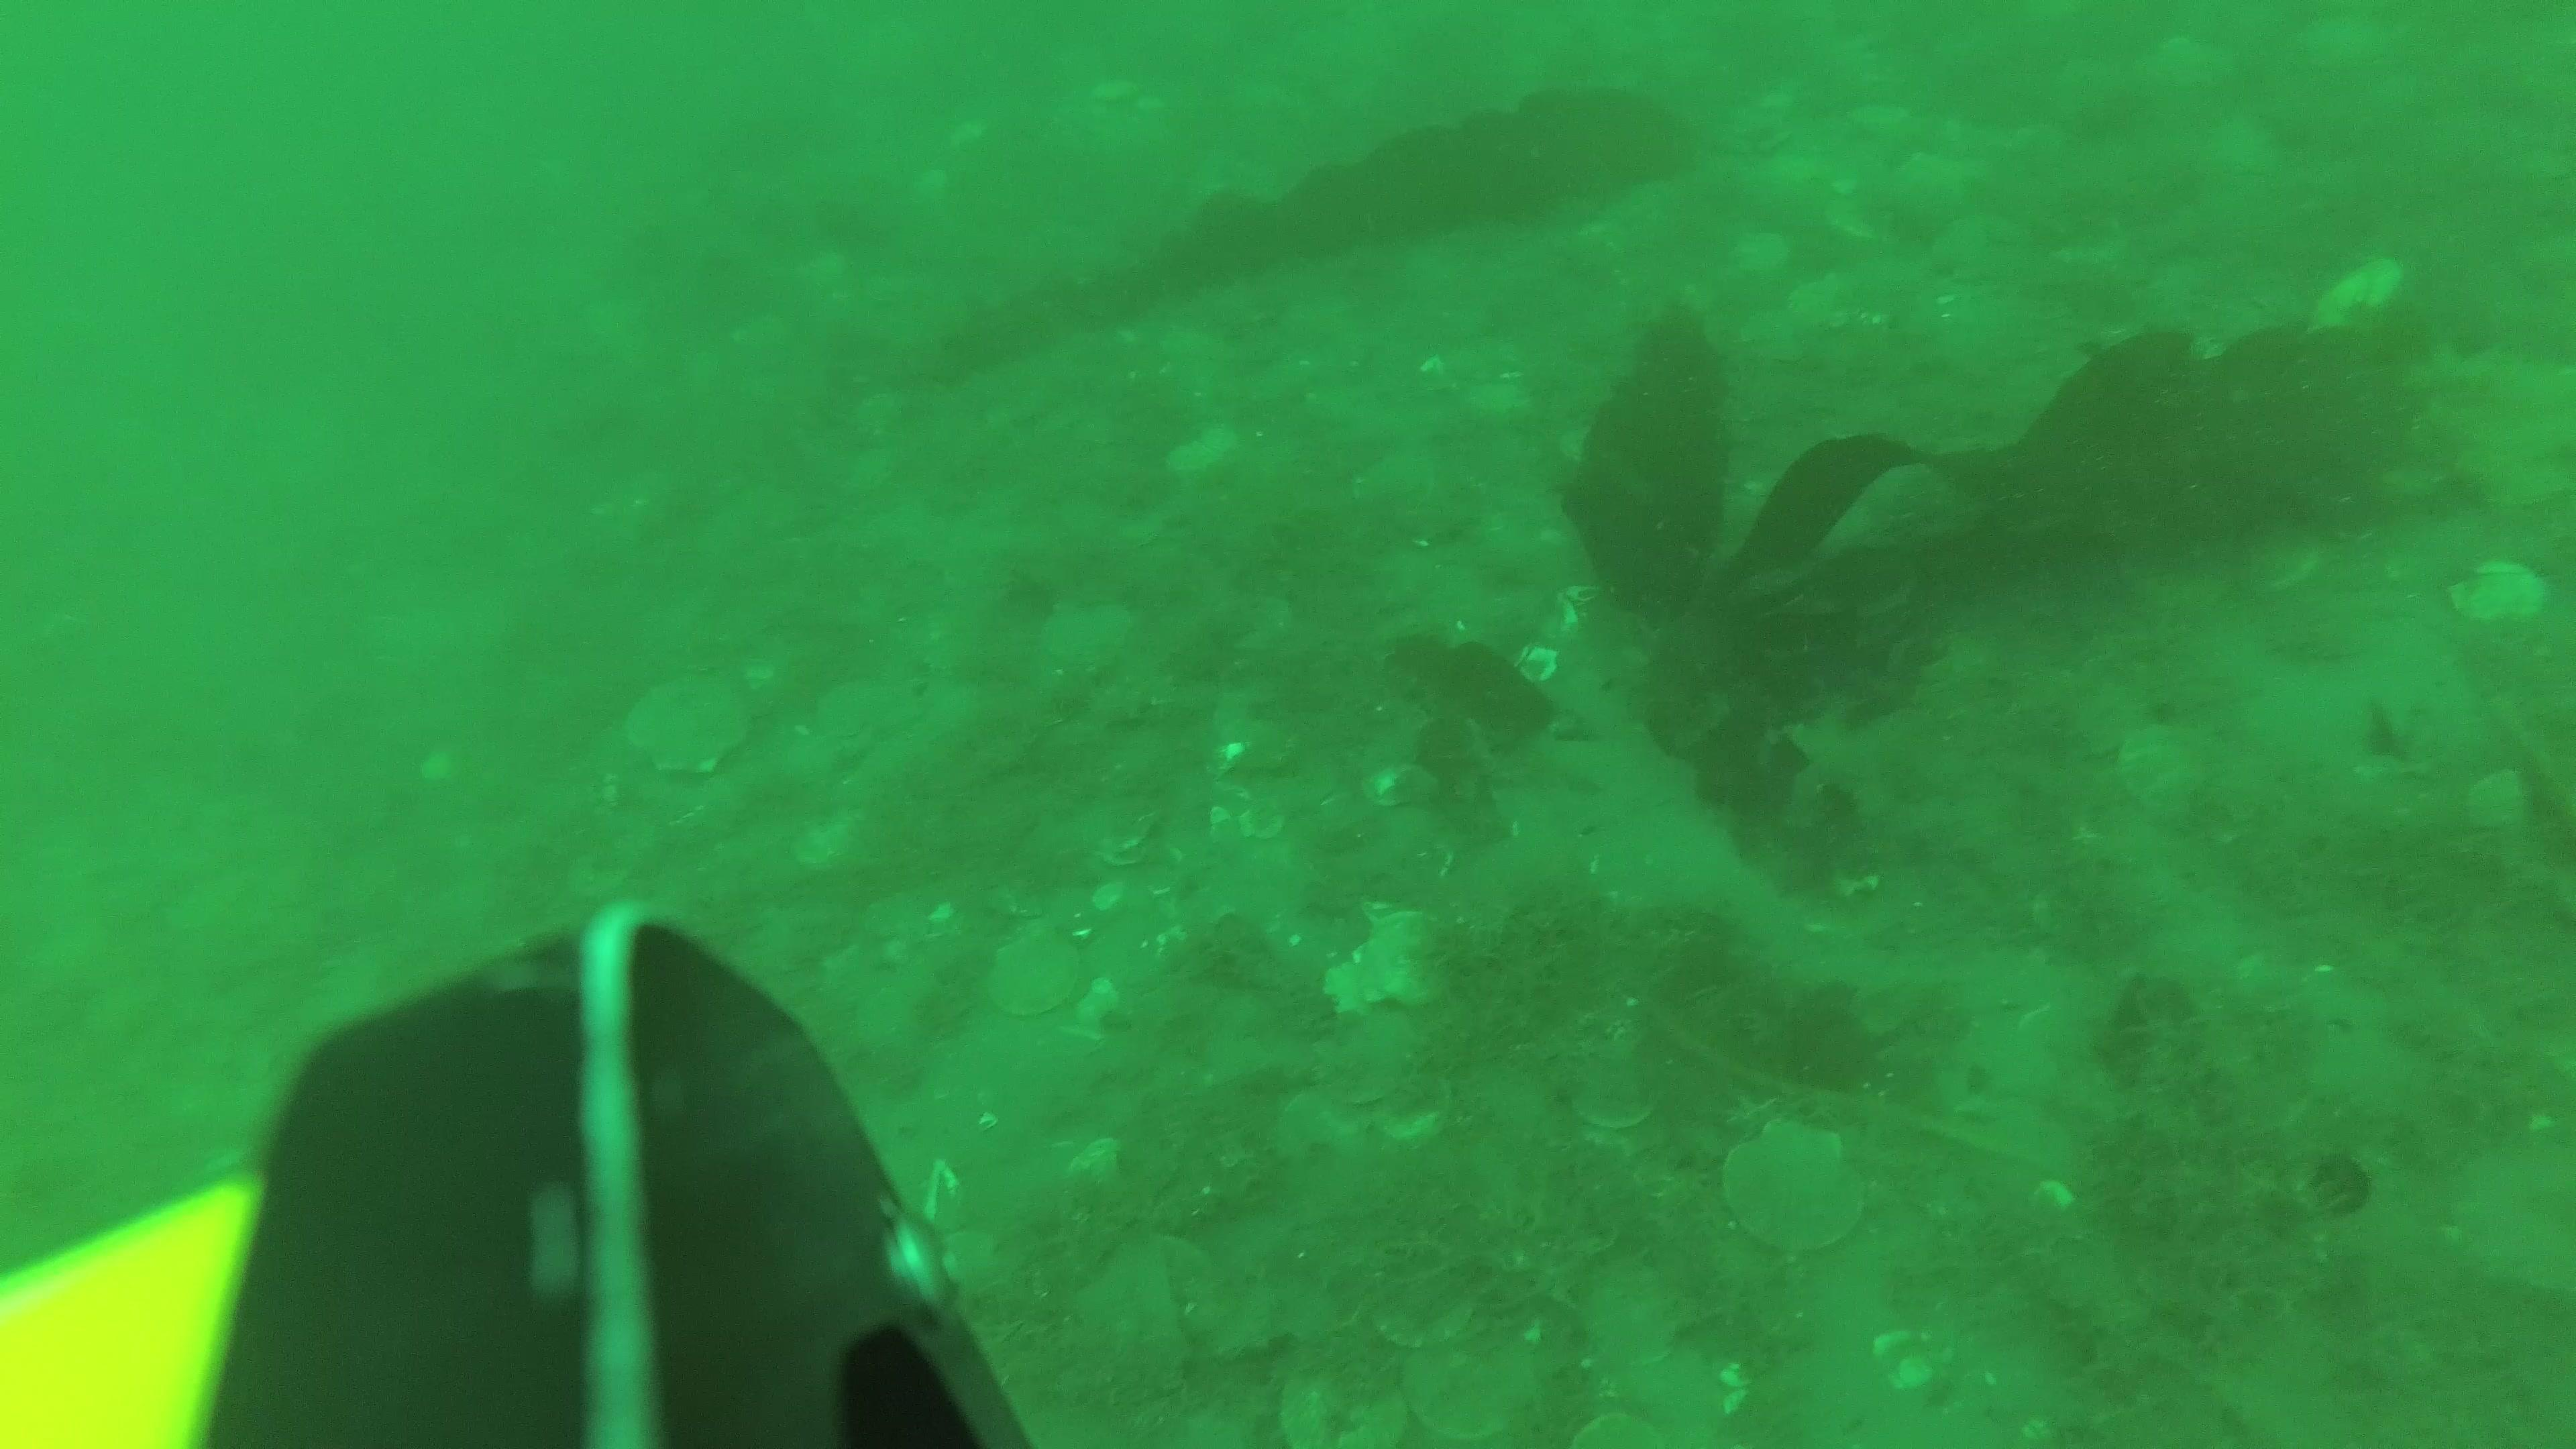scallop: (1723, 1122, 1870, 1260), (2121, 722, 2235, 840), (625, 686, 752, 782), (993, 934, 1076, 1023), (2457, 559, 2549, 628)
